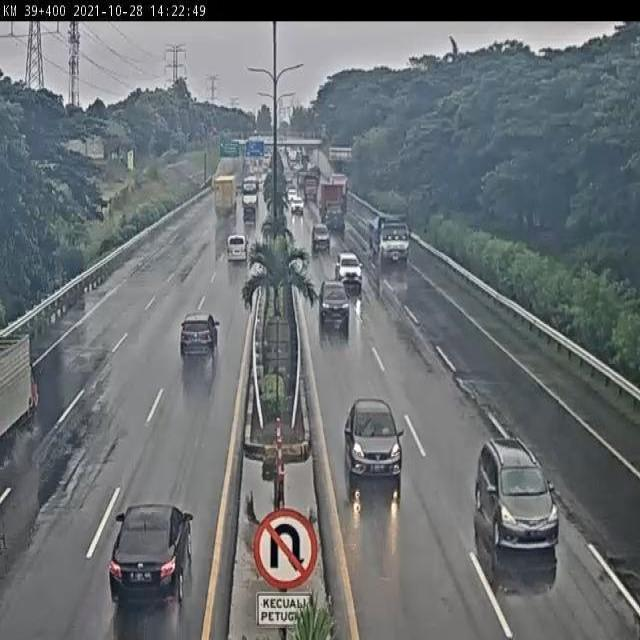Bus: (242, 178, 259, 216)
Car: (474, 436, 558, 558), (106, 503, 195, 605), (344, 396, 405, 494), (180, 312, 221, 364), (318, 279, 351, 343), (335, 253, 363, 287), (311, 223, 330, 252), (257, 172, 268, 190), (284, 176, 294, 193)
Truck: (369, 213, 411, 271), (317, 174, 350, 229), (213, 174, 237, 218), (302, 173, 319, 203)
Van: (226, 233, 248, 262)
